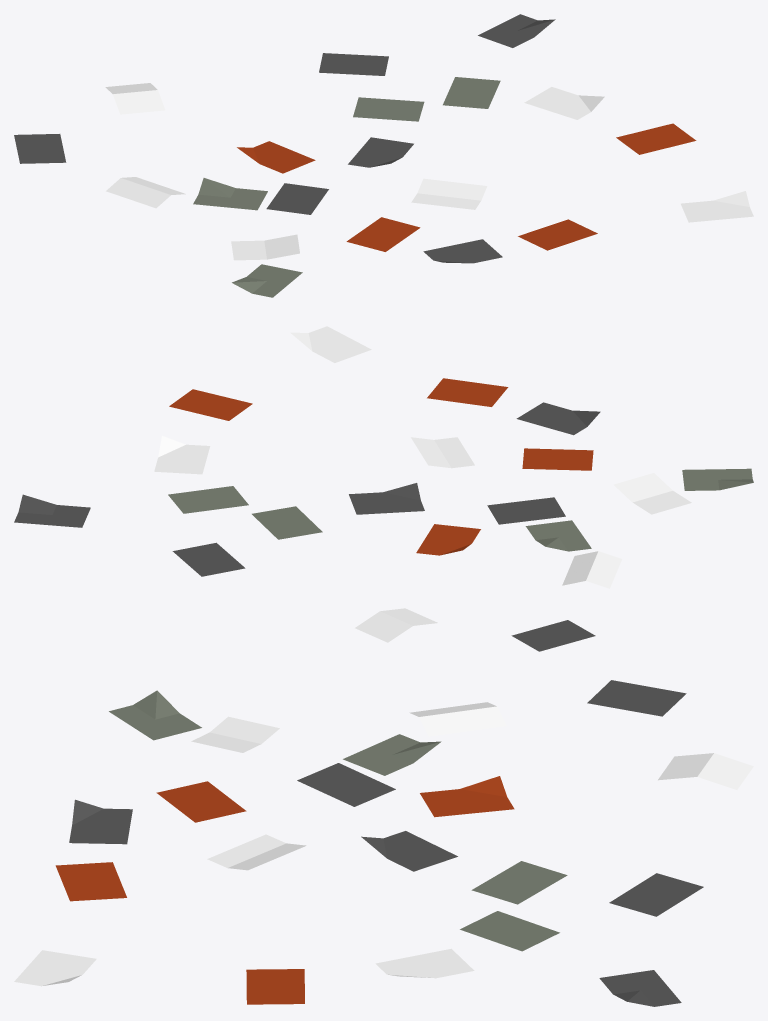
The model's file is Papers_02.fbx.
3 views of the same model, one above another, from view 1: azimuth 30°, elevation 25°; view 2: azimuth 150°, elevation 25°; view 3: azimuth 270°, elevation 25° (orthographic). The views are drawn at different scales.
Parts seen in each view (by area): view 1: Papers_02; view 2: Papers_02; view 3: Papers_02.
Part boxes in pixels (x1,y1,x2,y2): Papers_02: (14, 14, 753, 297); Papers_02: (14, 326, 753, 651); Papers_02: (14, 680, 753, 1006).
Bounding box in the file's own units: 283 × 4.15 × 267.
Materials: 1 (1 with a texture image).
